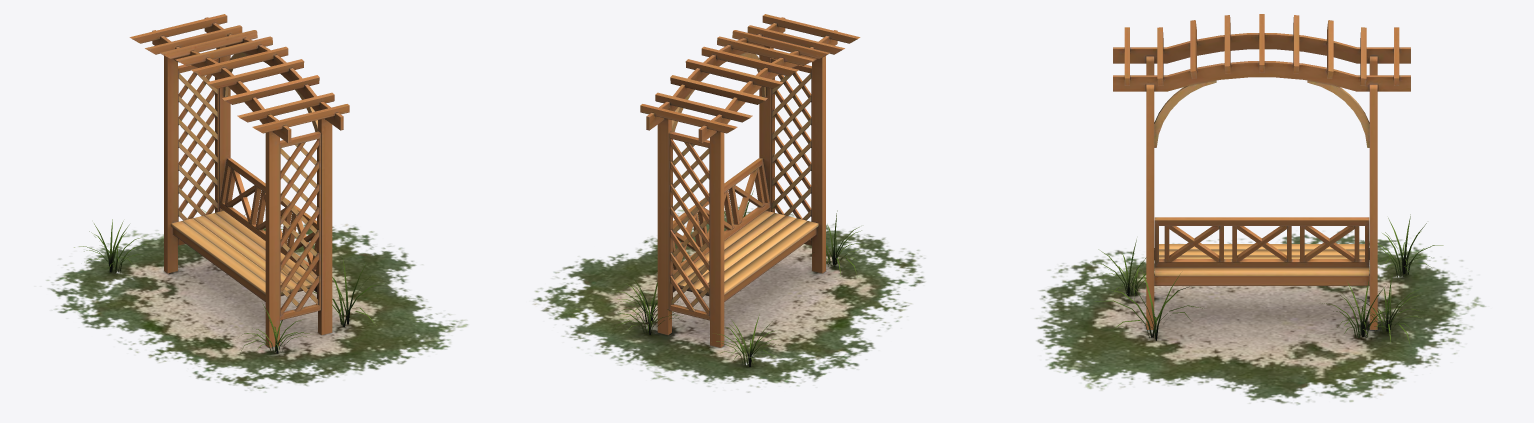
Rendered from bay-pergola.lod0.glb.
The picture shows the model from 3 angles, left to right: view 1: azimuth 30°, elevation 25°; view 2: azimuth 150°, elevation 25°; view 3: azimuth 270°, elevation 25°; orthographic projection. The views are drawn at different scales.
Parts seen in each view (by area): view 1: Pergala_UV_ex_Pergala_0, Ground_Unw_Material #60_0; view 2: Pergala_UV_ex_Pergala_0, Ground_Unw_Material #60_0; view 3: Ground_Unw_Material #60_0, Pergala_UV_ex_Pergala_0.
Part boxes in pixels (x1,y1,x2,y2): Pergala_UV_ex_Pergala_0: (129, 14, 349, 347); Ground_Unw_Material #60_0: (46, 206, 468, 392); Pergala_UV_ex_Pergala_0: (640, 14, 860, 347); Ground_Unw_Material #60_0: (533, 190, 925, 392); Ground_Unw_Material #60_0: (1035, 214, 1485, 404); Pergala_UV_ex_Pergala_0: (1113, 14, 1410, 329).
Bounding box in the file's own units: 4.27 × 2.8 × 4.83.
2 materials, 2 textured.
